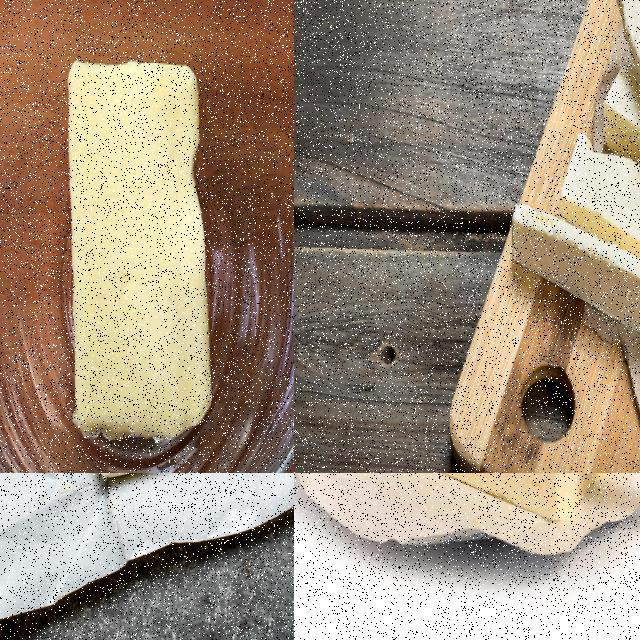butter: (60, 52, 217, 439), (508, 0, 639, 393), (364, 473, 639, 524)
